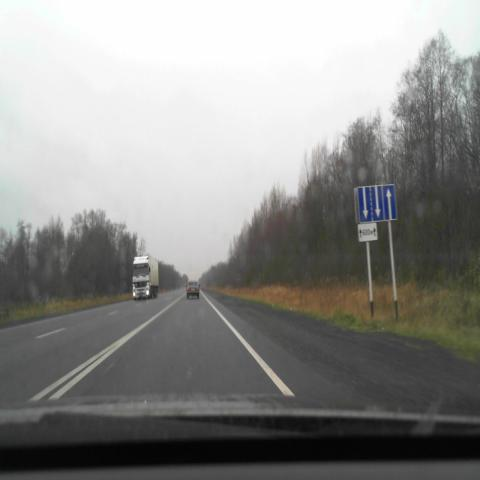5_15_7: (356, 183, 398, 223)
